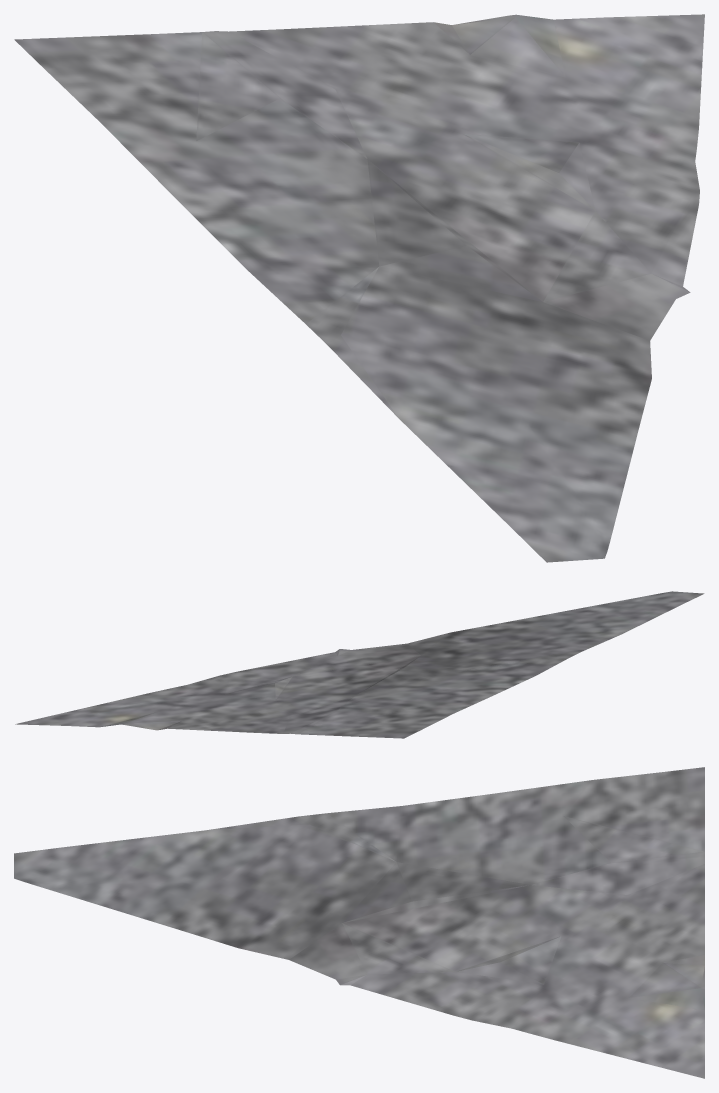
The picture shows the model from 3 angles, top to bottom: view 1: azimuth 30°, elevation 25°; view 2: azimuth 150°, elevation 25°; view 3: azimuth 270°, elevation 25°; orthographic projection. The views are drawn at different scales.
Size of the model in its own units: 1.25 by 0.2489 by 1.67.
1 material, 1 textured.
